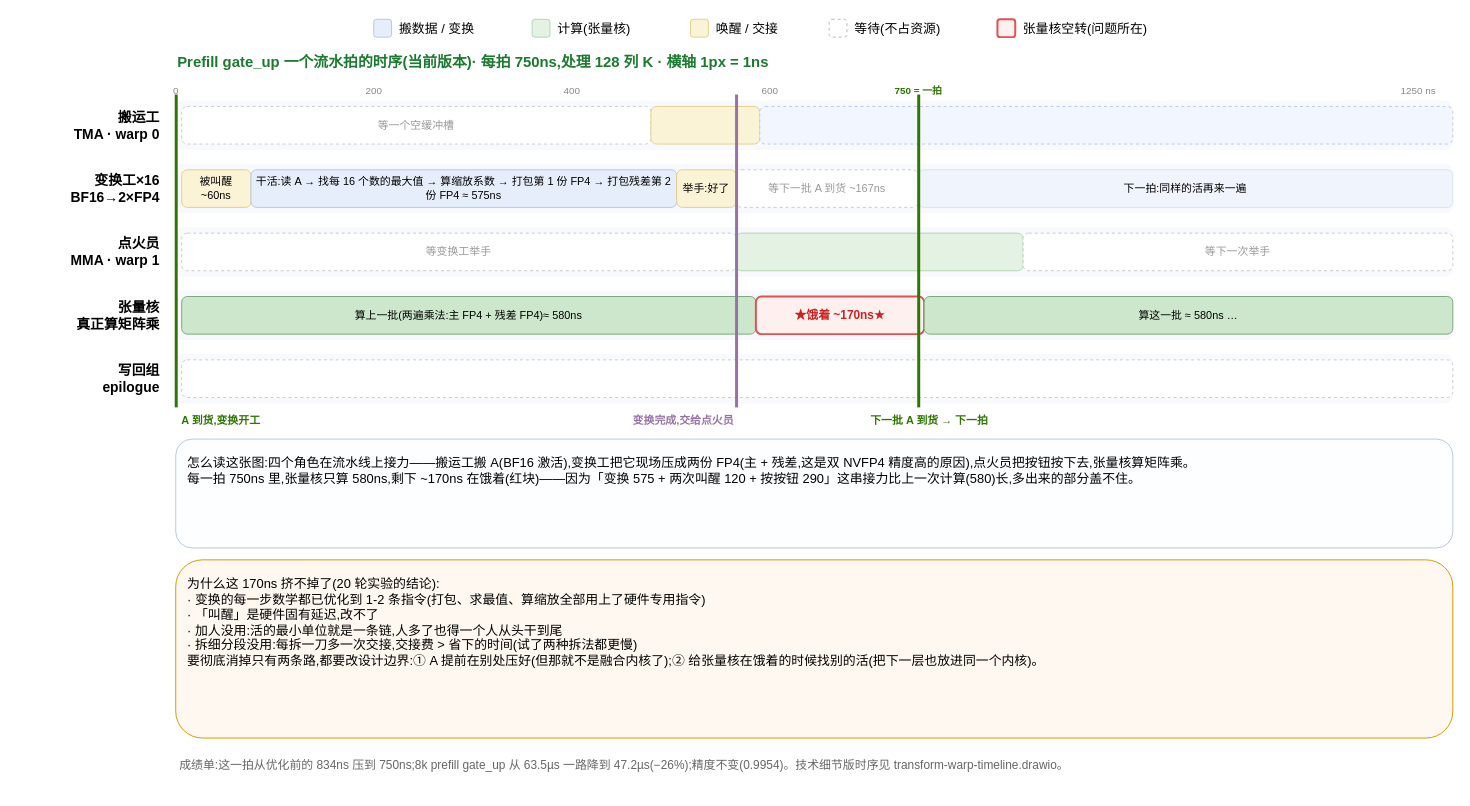
Some shapes in this 1470 by 806 pixel diagram are drawn without their labels. The shapes that lost their labels are listed below. From the top down, each one's centre as x and y in pixels, then its label:
At point (705, 124): "下单:搬 A、W、W的scale".
At point (1106, 124): "搬运在路上(DMA 引擎逐个搬,A 先到 → 变换可以先开工,不用等 W)".
At point (879, 251): "被叫醒 + 把 scale 拷进张量核 + 按下计算按钮 ≈ 290ns".
At point (817, 378): "平时闲着,每 16 拍(一个完整结果)出手一次把结果写回显存".
